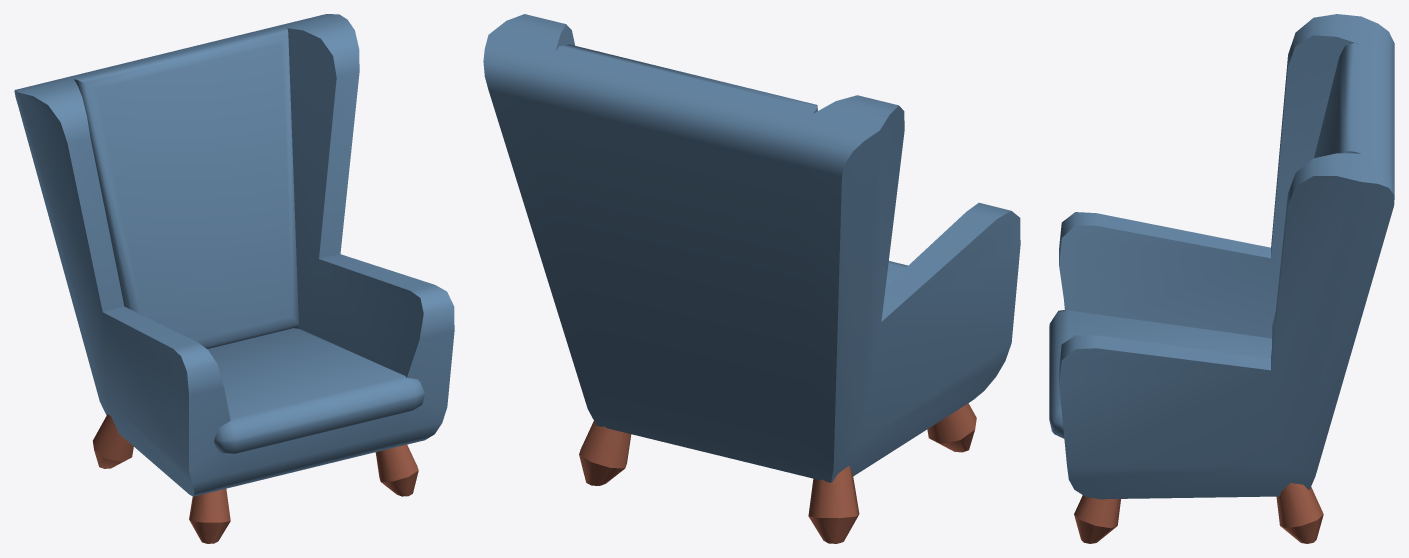
Rendered from armchair.gltf.glb.
3 views of the same model, side by side, from view 1: azimuth 30°, elevation 25°; view 2: azimuth 150°, elevation 25°; view 3: azimuth 270°, elevation 25° (orthographic). The views are drawn at different scales.
Parts seen in each view (by area): view 1: armchair; view 2: armchair; view 3: armchair.
Boxes of the visible parts, x1,y1,x2,y2 form: armchair: [14, 14, 454, 543]; armchair: [483, 14, 1020, 543]; armchair: [1049, 14, 1394, 543].
Bounding box in the file's own units: 1.5 × 1.67 × 1.32.
